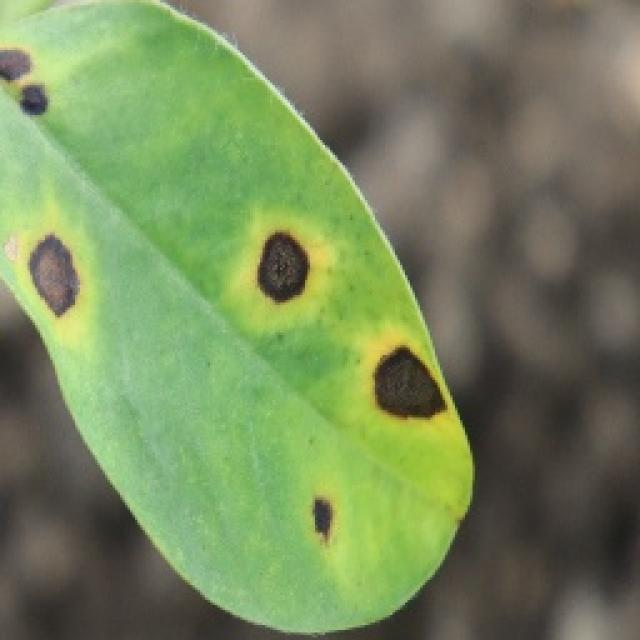Yellowish: (220, 203, 340, 336), (352, 306, 464, 424), (18, 198, 108, 336), (270, 484, 380, 570), (0, 12, 66, 139)
